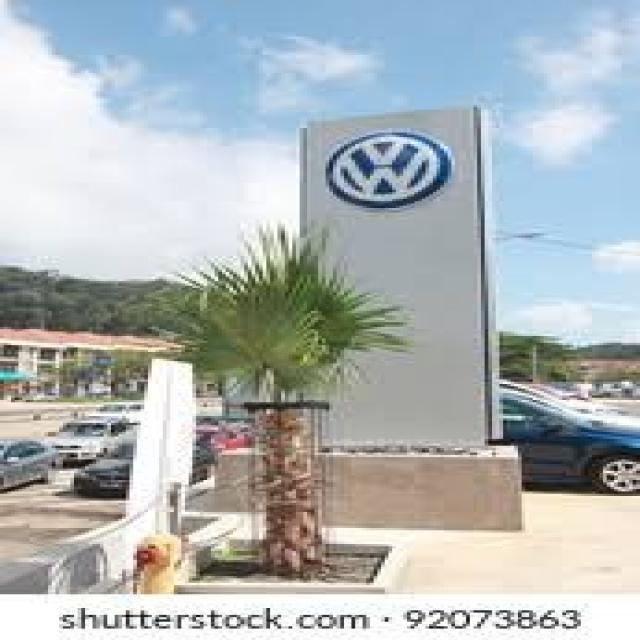volkswagen: (317, 119, 467, 214)
